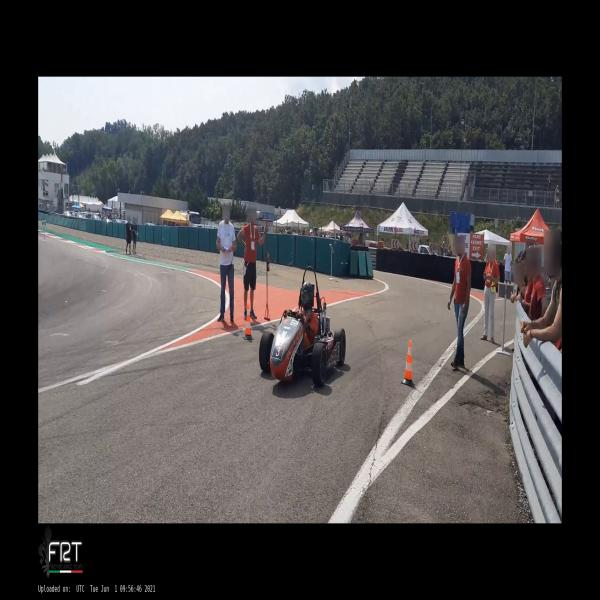large_orange_cone: (401, 340, 415, 387), (243, 304, 254, 340)
